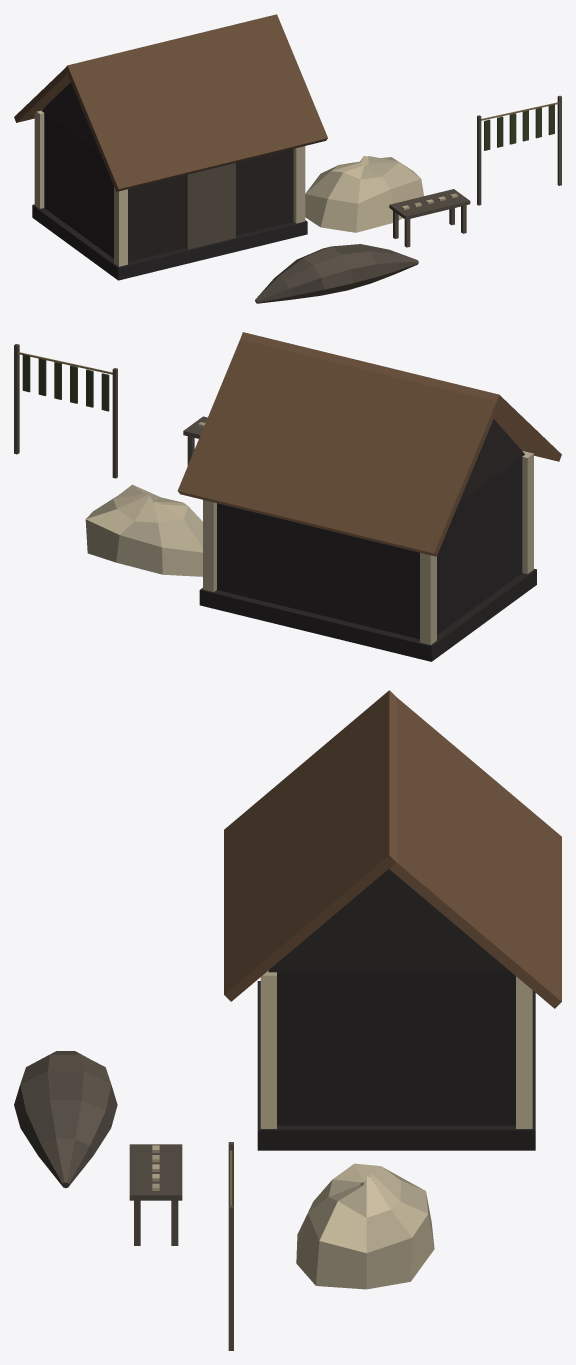
The model's file is walk_ashen_pearls.glb.
3 views of the same model, one above another, from view 1: azimuth 30°, elevation 25°; view 2: azimuth 150°, elevation 25°; view 3: azimuth 270°, elevation 25° (orthographic). The views are drawn at different scales.
Visible parts, largest first — view 1: walk_ashen_pearls, walk_ashen_pearls_roof; view 2: walk_ashen_pearls, walk_ashen_pearls_roof; view 3: walk_ashen_pearls, walk_ashen_pearls_roof.
Part boxes in pixels (x1=…): walk_ashen_pearls: x1=32, y1=82, x2=561, y2=303; walk_ashen_pearls_roof: x1=14, y1=14, x2=327, y2=191; walk_ashen_pearls: x1=14, y1=344, x2=536, y2=661; walk_ashen_pearls_roof: x1=177, y1=332, x2=561, y2=556; walk_ashen_pearls: x1=14, y1=869, x2=535, y2=1350; walk_ashen_pearls_roof: x1=224, y1=690, x2=561, y2=1008.
Size of what is drawn, in the model's own units: 11.04 by 4.98 by 7.29.
1 material, 1 textured.
